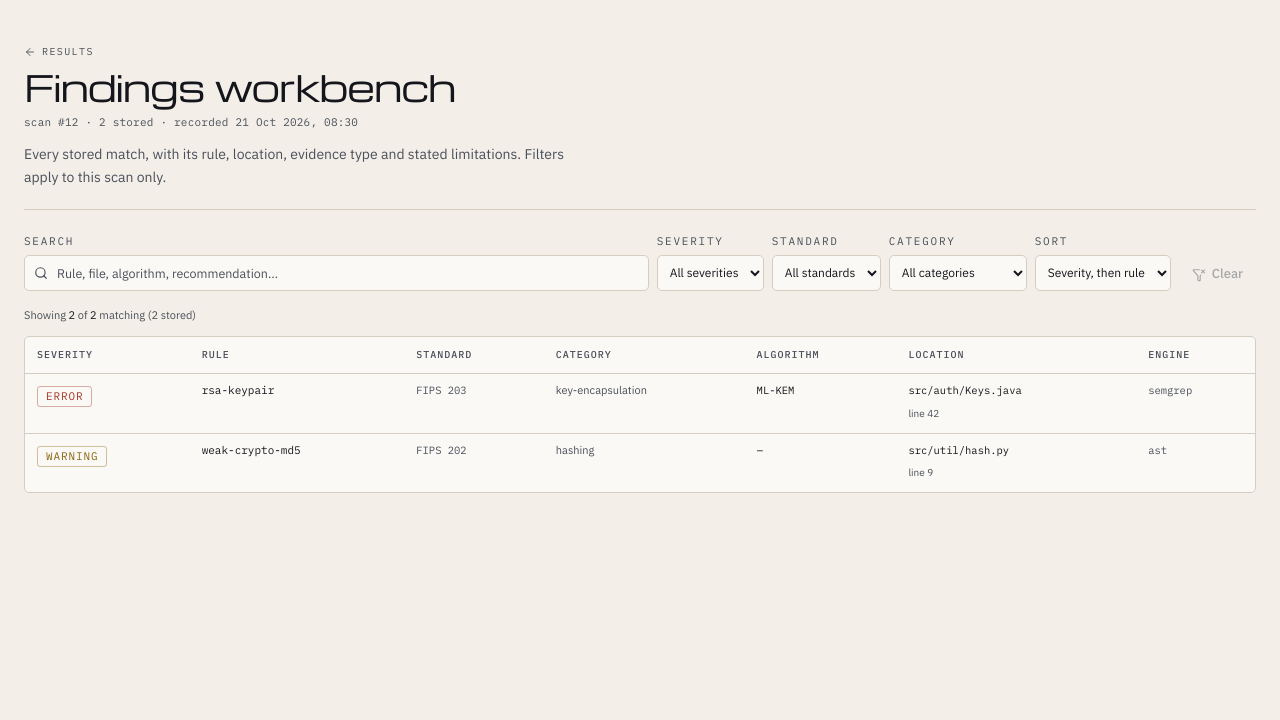
Test: FindingsPage › filters by search and says when nothing matches, without hiding the total
Type "definitely-not-present" into the search field labelled "Search" at (336, 273), box [24,255,649,291]
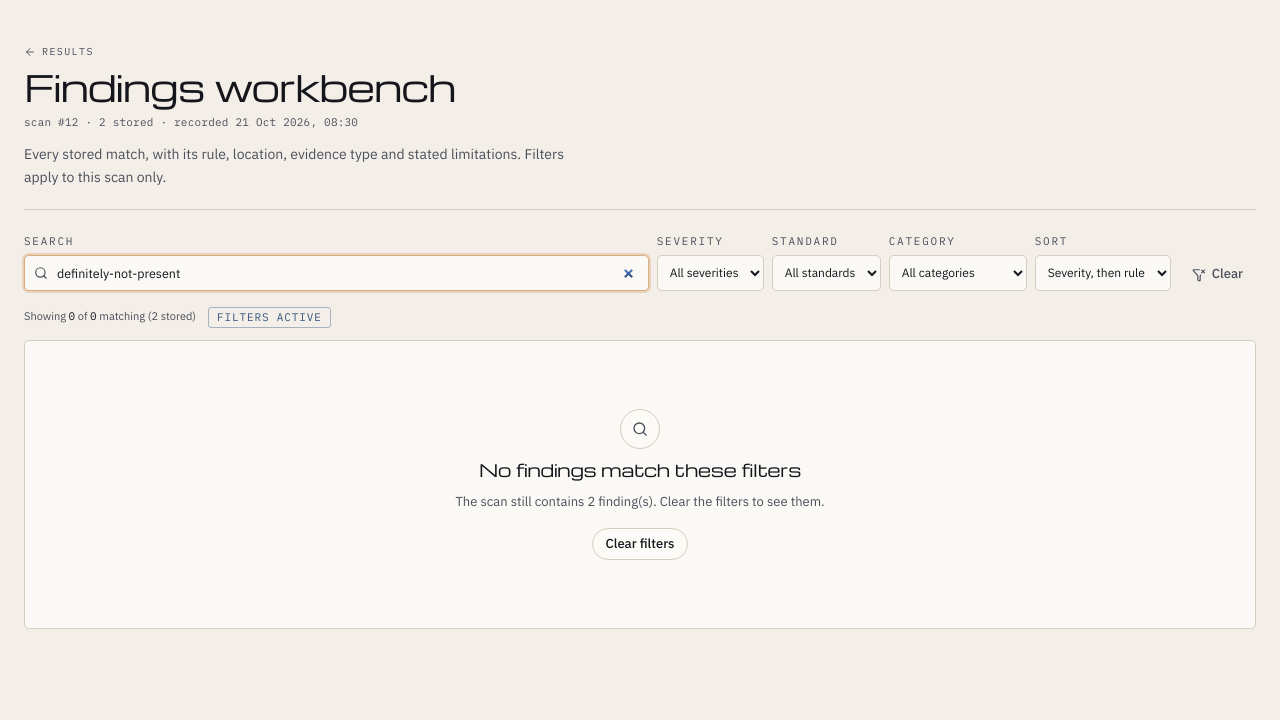
expect the heading "No findings match these filters" is shown: met, box [479,461,801,479]
expect the text "The scan still contains 2 finding" is shown: met, box [455,493,825,510]
Click the button "Clear filters" at (640, 544), box [592,528,688,560]
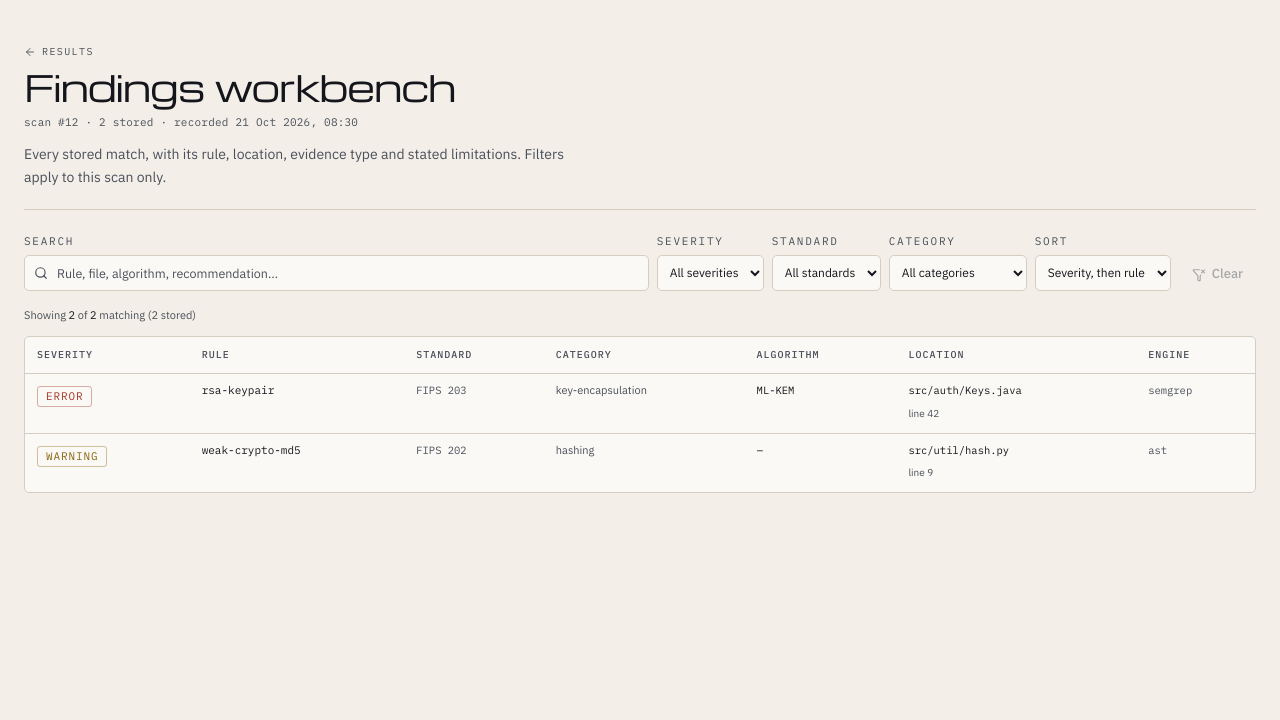
expect the text "rsa-keypair" is shown: met, box [202,383,274,397]
